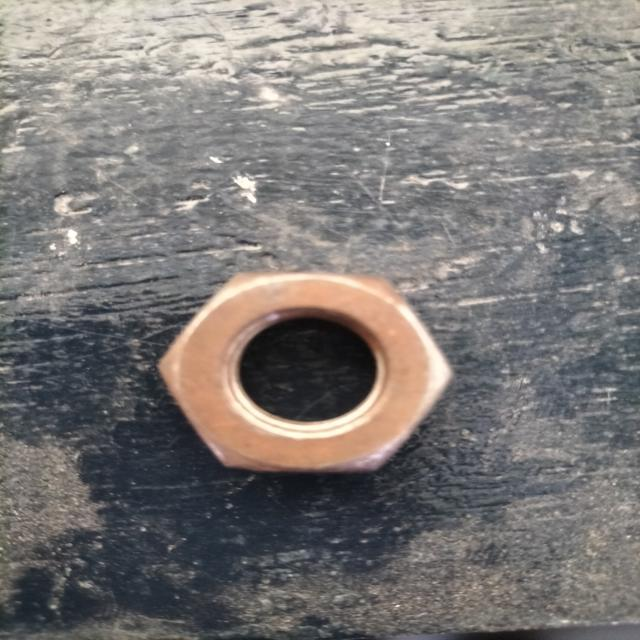nuts: (159, 273, 451, 472)
